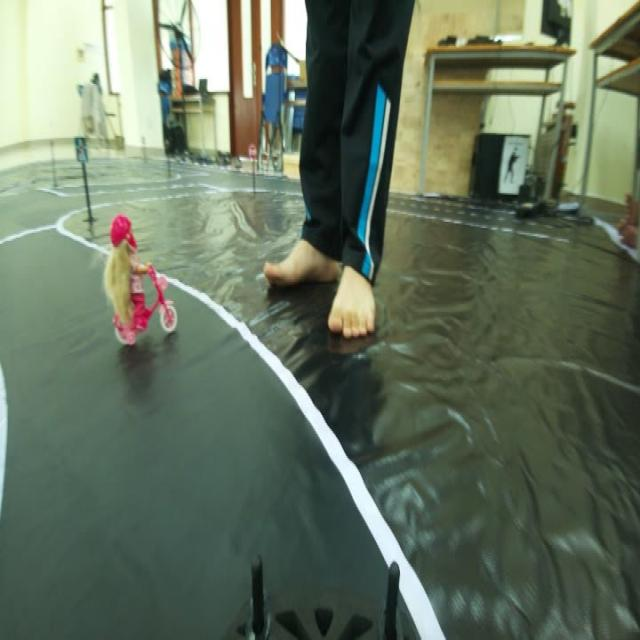pedestrian: (92, 213, 181, 340)
